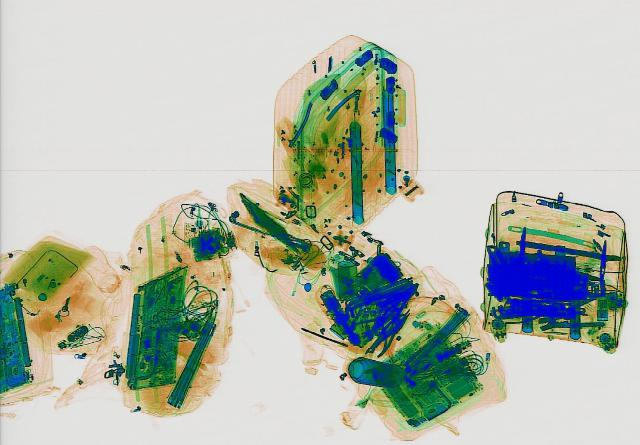Pliers: (528, 295, 610, 338)
